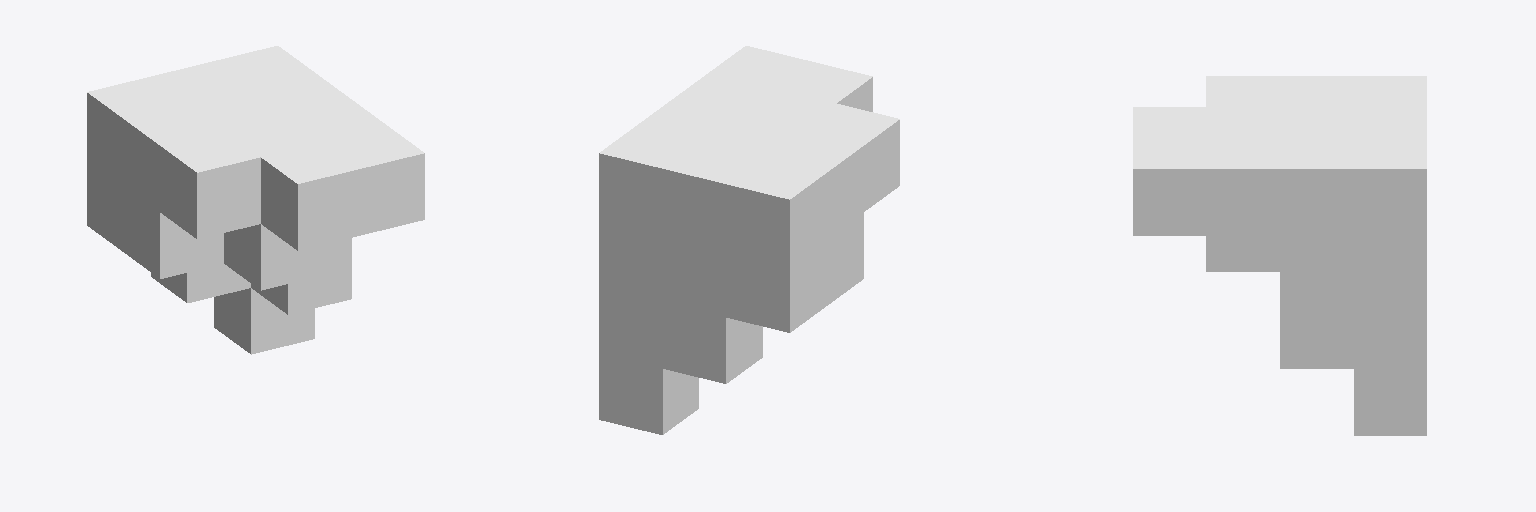
File: Bunny-Bit-2-(White).obj
3 renders of one model, left to right at view 1: azimuth 30°, elevation 25°; view 2: azimuth 150°, elevation 25°; view 3: azimuth 270°, elevation 25°, orthographic.
Visible parts, largest first — view 1: object 1; view 2: object 1; view 3: object 1.
Boxes of the visible parts, <box> form: object 1: <box>87,46,424,354</box>; object 1: <box>599,46,899,434</box>; object 1: <box>1133,76,1426,435</box>.
Bounding box in the file's own units: 0.3 × 0.4 × 0.4.